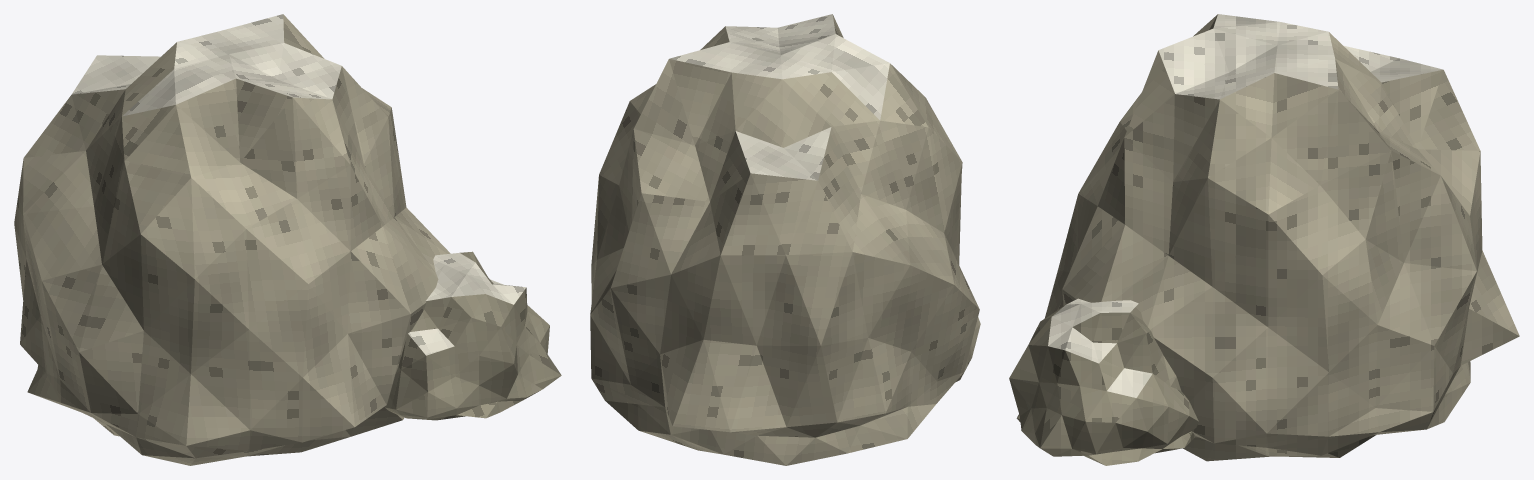
File: map06-obj04.glb
The picture shows the model from 3 angles, left to right: view 1: azimuth 30°, elevation 25°; view 2: azimuth 150°, elevation 25°; view 3: azimuth 270°, elevation 25°; orthographic projection. The views are drawn at different scales.
Parts seen in each view (by area): view 1: map06_obj042; view 2: map06_obj042; view 3: map06_obj042.
Boxes of the visible parts, bbox=[...] form: map06_obj042: bbox=[14, 14, 561, 465]; map06_obj042: bbox=[590, 14, 980, 465]; map06_obj042: bbox=[1009, 14, 1519, 465].
Size of the model in its own units: 0.92 by 0.8 by 0.97.
3 materials, 3 textured.
